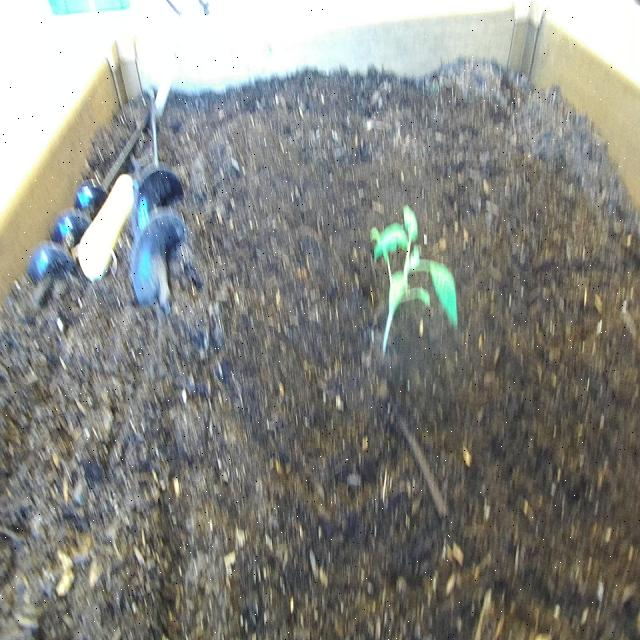Healthy: (364, 194, 465, 376)
